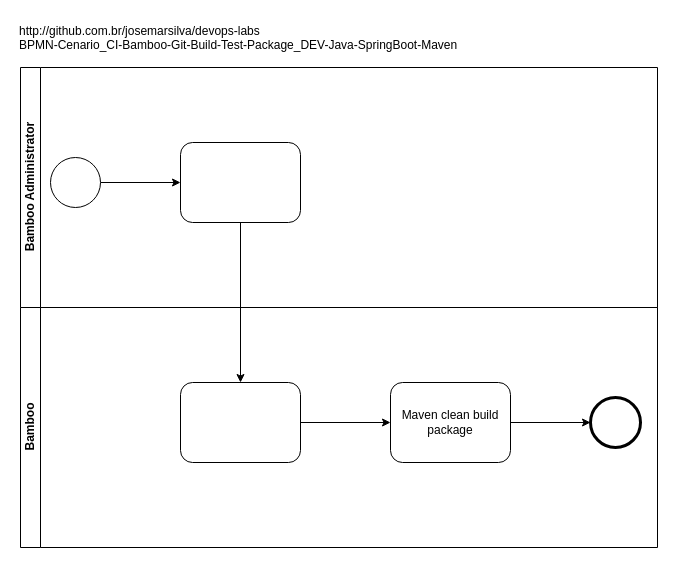
The diagram is 675 pixels wide and 565 high, and some of its shapes have lost their labels. The shapes that lost their labels are listed below. From the top down, each one's centre as x and y in pixels, then its label:
At point (240, 182): "Executa Project / Plan / Build do Bamboo".
At point (240, 422): "Git Pull".
